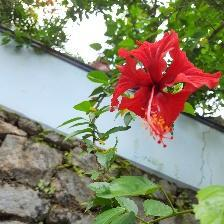hibiscus: (109, 28, 224, 150)
